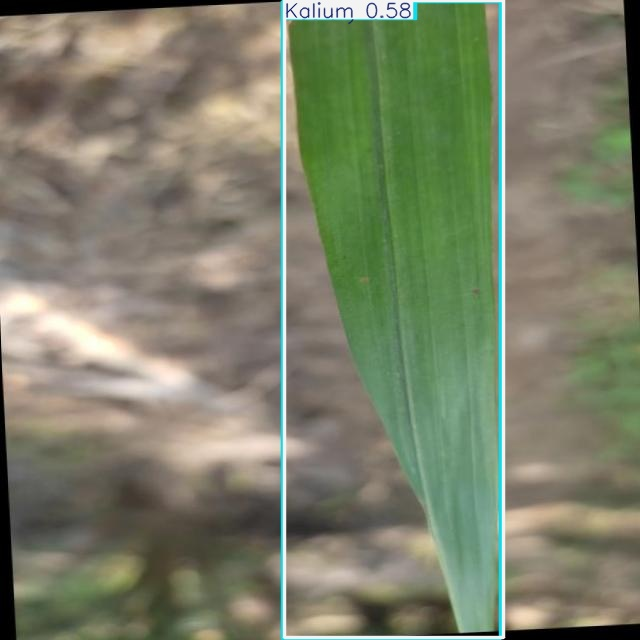Healthy: (282, 1, 501, 639)
Kalium: (285, 0, 503, 638)
